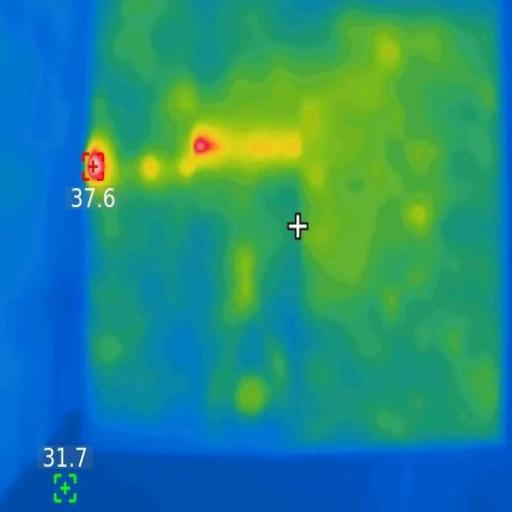hotspot: (79, 146, 110, 186), (192, 134, 217, 158)
